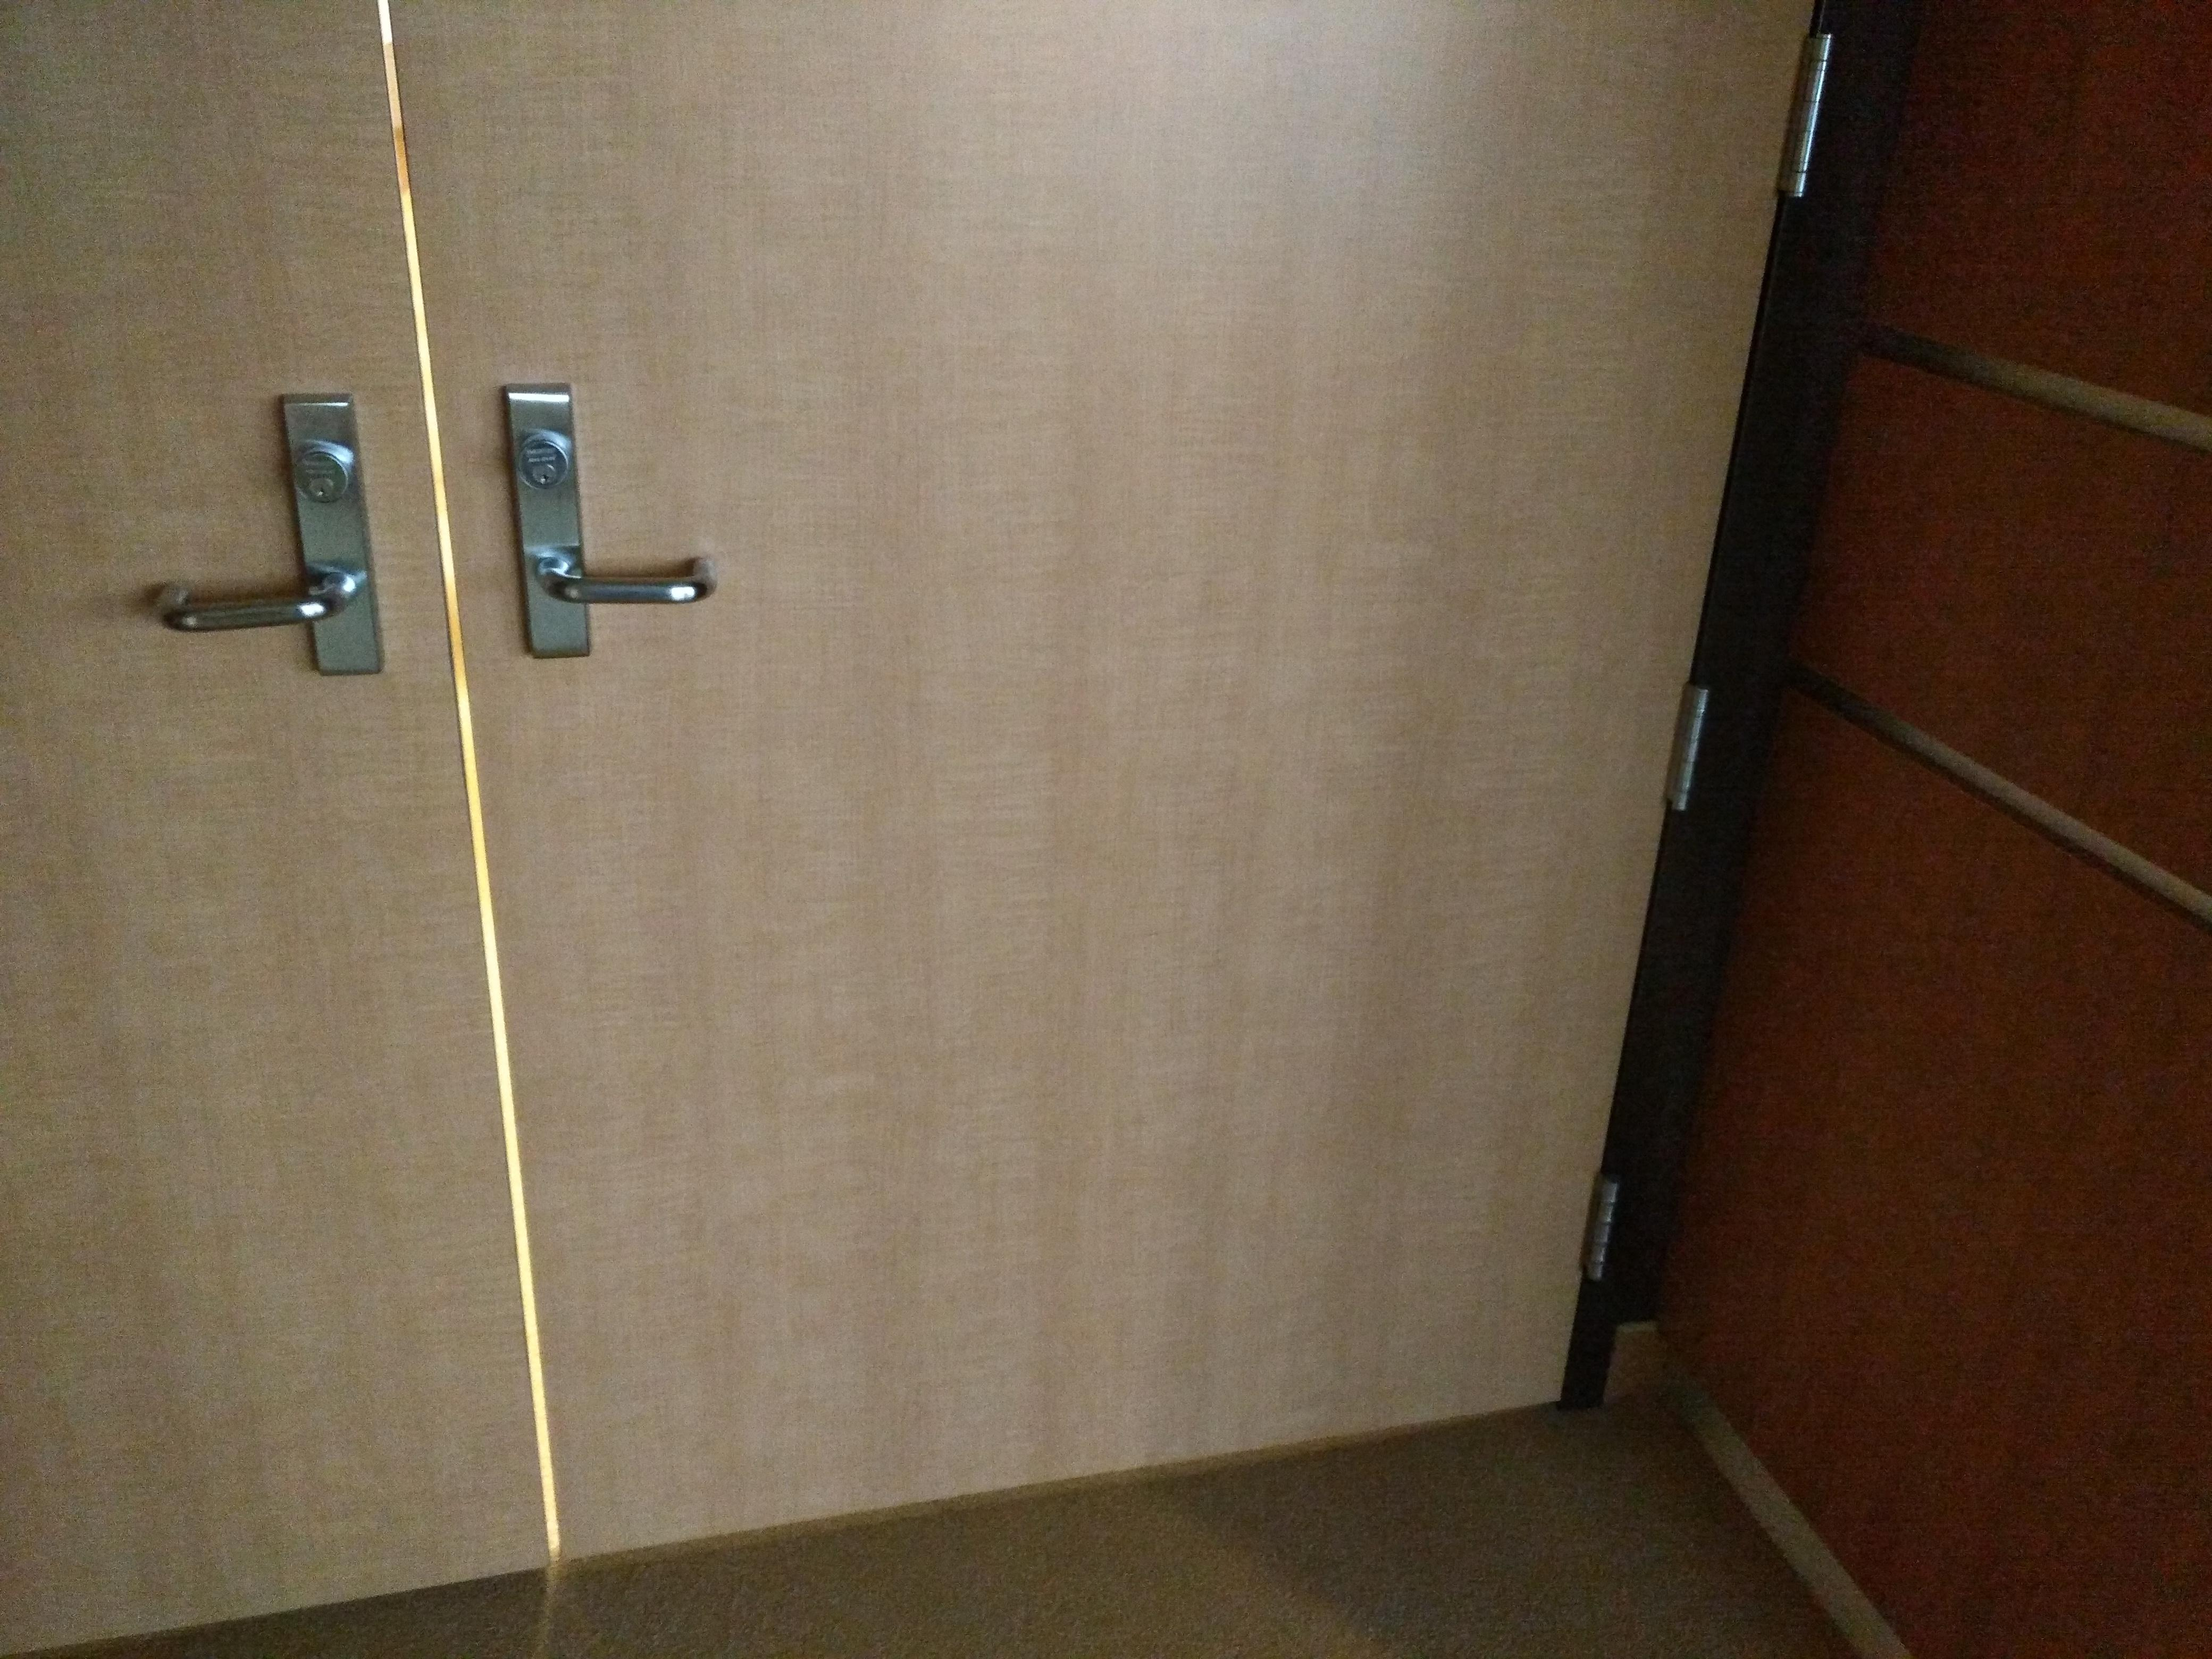door: (0, 7, 1843, 1581)
